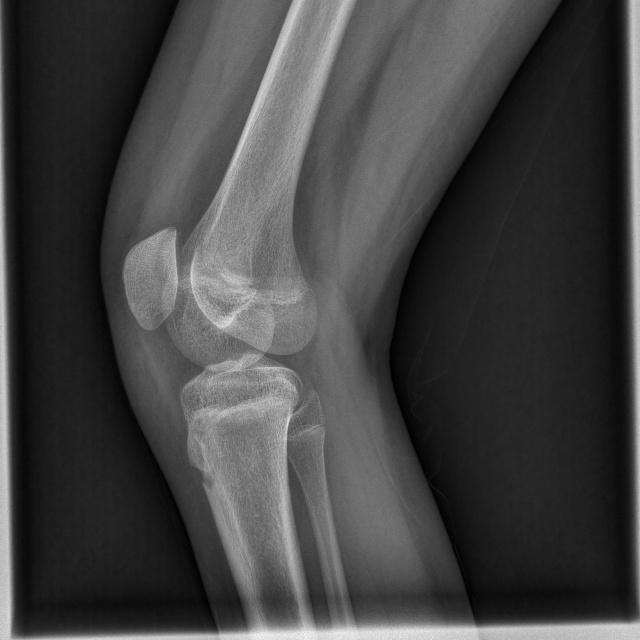Knee: (120, 222, 321, 461)
